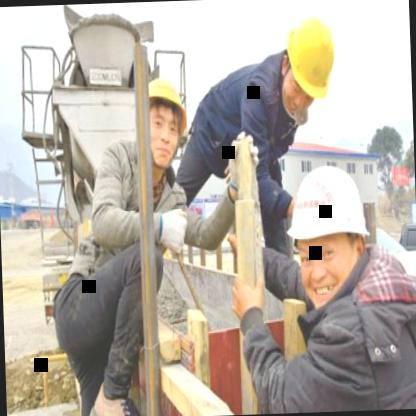helmet: (283, 153, 379, 304), (277, 7, 346, 128), (139, 67, 193, 170)
